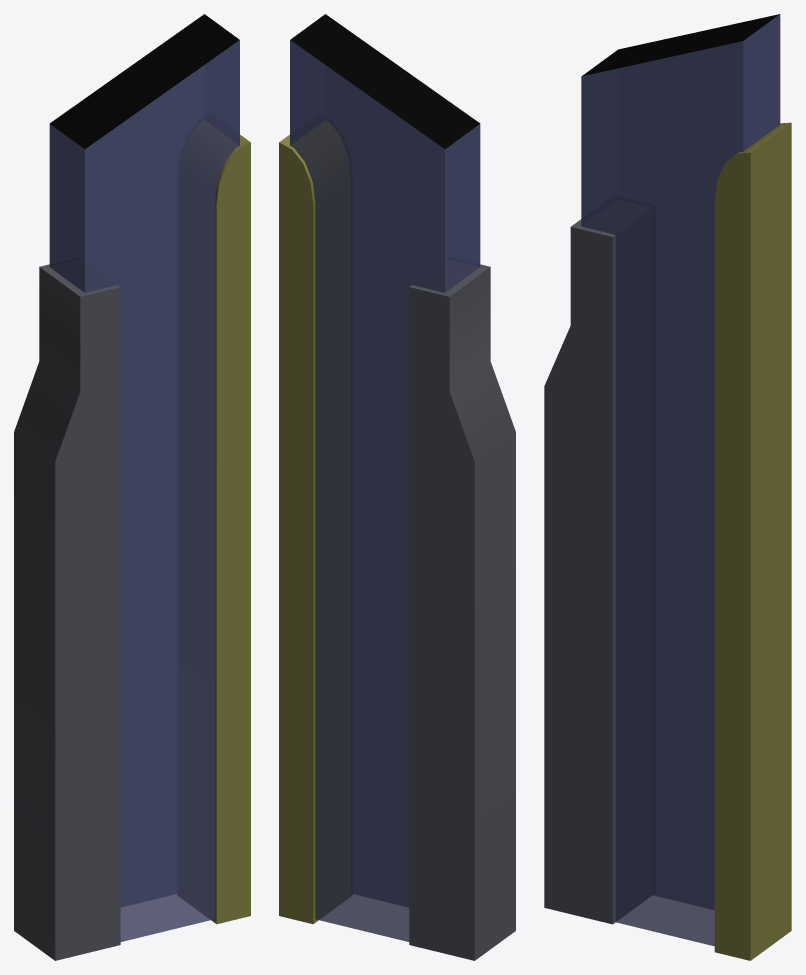
The model's file is MOD_TallBuildingA 2.fbx.
The picture shows the model from 3 angles, left to right: view 1: azimuth 30°, elevation 25°; view 2: azimuth 150°, elevation 25°; view 3: azimuth 330°, elevation 25°; orthographic projection. The views are drawn at different scales.
Visible parts, largest first — view 1: MOD_TallBuildingA; view 2: MOD_TallBuildingA; view 3: MOD_TallBuildingA.
Part boxes in pixels (<box>): MOD_TallBuildingA: <box>14,14,250,960</box>; MOD_TallBuildingA: <box>279,14,515,960</box>; MOD_TallBuildingA: <box>544,14,791,960</box>.
Size of the model in its own units: 2125 by 9060 by 770.
